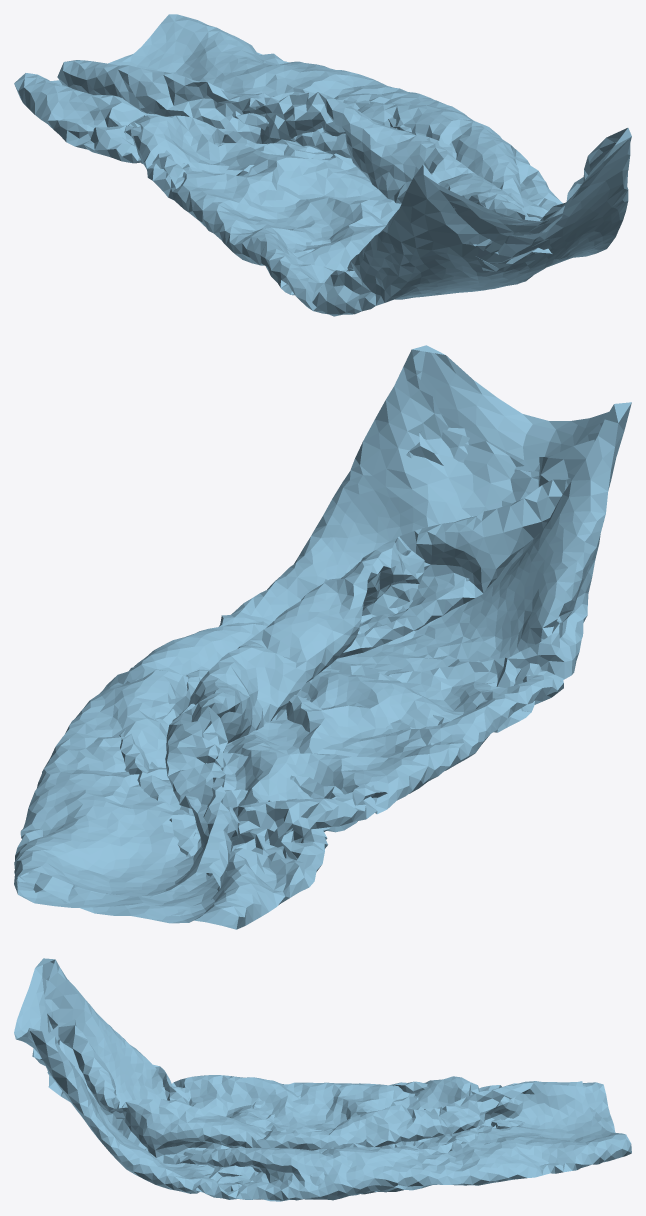
File: frame_03.glb
3 renders of one model, top to bottom at view 1: azimuth 30°, elevation 25°; view 2: azimuth 150°, elevation 25°; view 3: azimuth 270°, elevation 25°, orthographic. The views are drawn at different scales.
Visible parts, largest first — view 1: frame_03.obj; view 2: frame_03.obj; view 3: frame_03.obj.
Part boxes in pixels (x1,y1,x2,y2): frame_03.obj: [14, 14, 631, 316]; frame_03.obj: [14, 345, 631, 929]; frame_03.obj: [14, 958, 631, 1201].
Size of the model in its own units: 0.788 by 0.5026 by 1.86.
